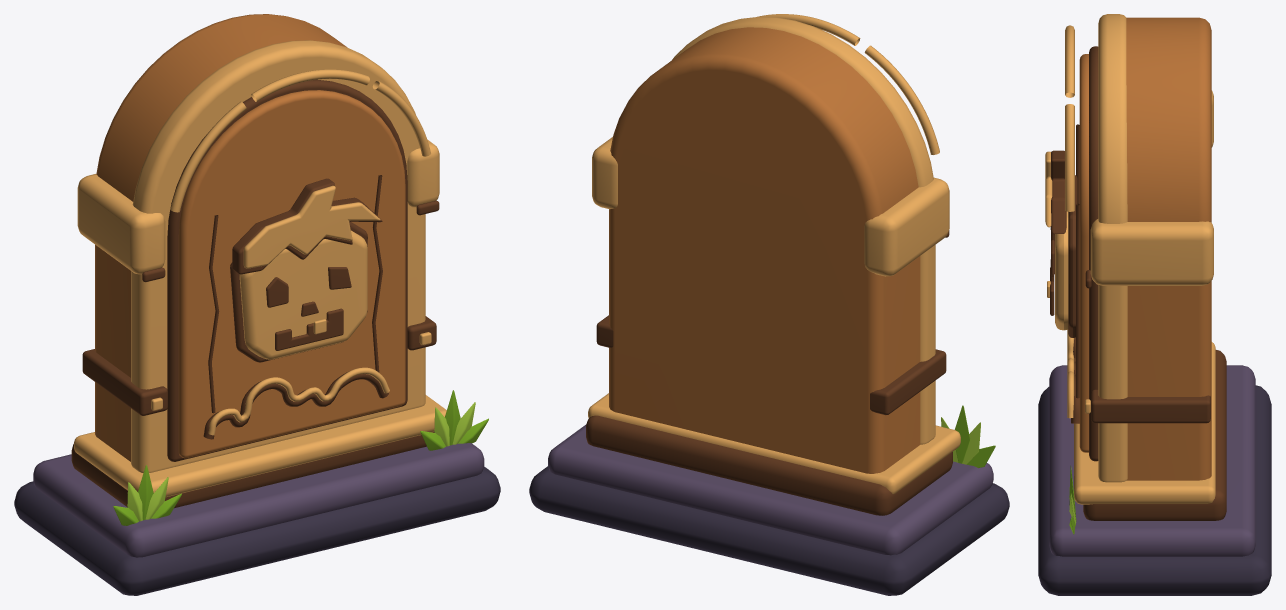
Rendered from Grave_Wooden.glb.
The picture shows the model from 3 angles, left to right: view 1: azimuth 30°, elevation 25°; view 2: azimuth 150°, elevation 25°; view 3: azimuth 270°, elevation 25°; orthographic projection.
Parts seen in each view (by area): view 1: Headstone / inset front panel, Headstone / raised outer border, Base / lower basalt, Base / bevelled upper step, Headstone / solid arched body, Foot / highlight lip, Emblem / raised zombie face, Headstone / recessed outline, Shoulder / sculpted side block, Emblem / hair highlight, Foot / broad material shoe, Wood / bronze binding (+12 smaller); view 2: Headstone / solid arched body, Base / lower basalt, Base / bevelled upper step, Foot / broad material shoe, Headstone / raised outer border, Shoulder / sculpted side block, Foot / highlight lip, Wood / bronze binding, Shoulder / sculpted side block.001, Crown / curved raised band.002, Crown / curved raised band.001; view 3: Headstone / solid arched body, Base / bevelled upper step, Base / lower basalt, Headstone / raised outer border, Shoulder / sculpted side block.001, Foot / highlight lip, Foot / broad material shoe, Headstone / inset front panel, Headstone / recessed outline, Wood / bronze binding.001, Emblem / raised zombie face, Emblem / messy hair silhouette (+7 smaller).
Part boxes in pixels (x1=…): Headstone / inset front panel: x1=178, y1=90, x2=405, y2=458; Headstone / raised outer border: x1=131, y1=40, x2=425, y2=472; Base / lower basalt: x1=14, y1=466, x2=500, y2=595; Base / bevelled upper step: x1=33, y1=443, x2=484, y2=557; Headstone / solid arched body: x1=95, y1=14, x2=346, y2=461; Foot / highlight lip: x1=74, y1=395, x2=446, y2=497; Emblem / raised zombie face: x1=239, y1=230, x2=367, y2=359; Headstone / recessed outline: x1=167, y1=79, x2=407, y2=461; Shoulder / sculpted side block: x1=77, y1=174, x2=165, y2=274; Emblem / hair highlight: x1=243, y1=185, x2=380, y2=268; Foot / broad material shoe: x1=71, y1=432, x2=434, y2=508; Wood / bronze binding: x1=82, y1=349, x2=167, y2=415; Headstone / solid arched body: x1=609, y1=27, x2=920, y2=473; Base / lower basalt: x1=529, y1=466, x2=1009, y2=595; Base / bevelled upper step: x1=548, y1=424, x2=993, y2=555; Foot / broad material shoe: x1=586, y1=415, x2=952, y2=515; Headstone / raised outer border: x1=672, y1=16, x2=935, y2=444; Shoulder / sculpted side block: x1=864, y1=177, x2=949, y2=276; Foot / highlight lip: x1=588, y1=393, x2=960, y2=494; Wood / bronze binding: x1=870, y1=349, x2=946, y2=415; Shoulder / sculpted side block.001: x1=592, y1=137, x2=617, y2=209; Crown / curved raised band.002: x1=864, y1=45, x2=939, y2=154; Crown / curved raised band.001: x1=757, y1=14, x2=860, y2=45; Headstone / solid arched body: x1=1126, y1=17, x2=1211, y2=480; Base / bevelled upper step: x1=1049, y1=365, x2=1255, y2=556; Base / lower basalt: x1=1038, y1=385, x2=1271, y2=595; Headstone / raised outer border: x1=1098, y1=14, x2=1127, y2=482; Shoulder / sculpted side block.001: x1=1090, y1=219, x2=1213, y2=285; Foot / highlight lip: x1=1074, y1=342, x2=1215, y2=504; Foot / broad material shoe: x1=1083, y1=350, x2=1226, y2=520; Headstone / inset front panel: x1=1079, y1=54, x2=1088, y2=452; Headstone / recessed outline: x1=1089, y1=46, x2=1098, y2=461; Wood / bronze binding.001: x1=1091, y1=389, x2=1210, y2=423; Emblem / raised zombie face: x1=1055, y1=211, x2=1068, y2=330; Emblem / messy hair silhouette: x1=1050, y1=150, x2=1066, y2=234.
Bounding box in the file's own units: 2.6 × 3.14 × 1.38.
